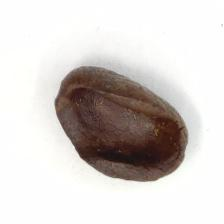NG: (56, 80, 183, 178)
